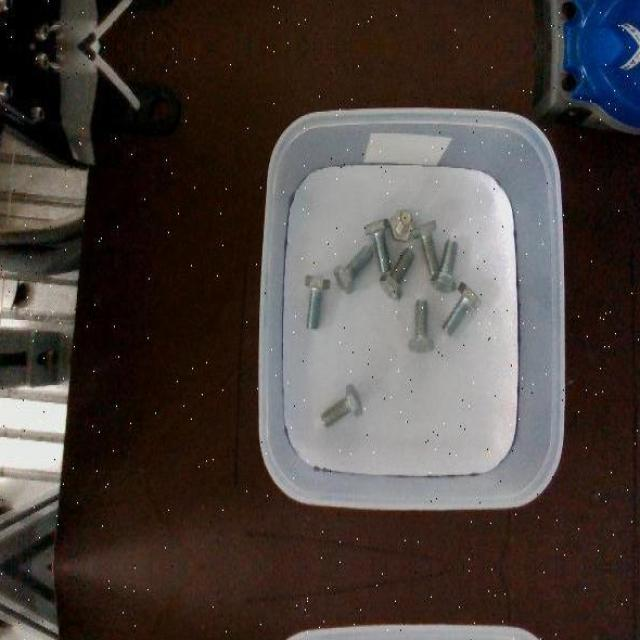screw: (442, 281, 482, 336), (334, 245, 374, 295), (378, 246, 416, 298), (320, 383, 362, 428), (364, 217, 392, 272), (430, 239, 458, 292), (305, 273, 330, 328), (408, 300, 434, 352), (390, 208, 416, 240)
